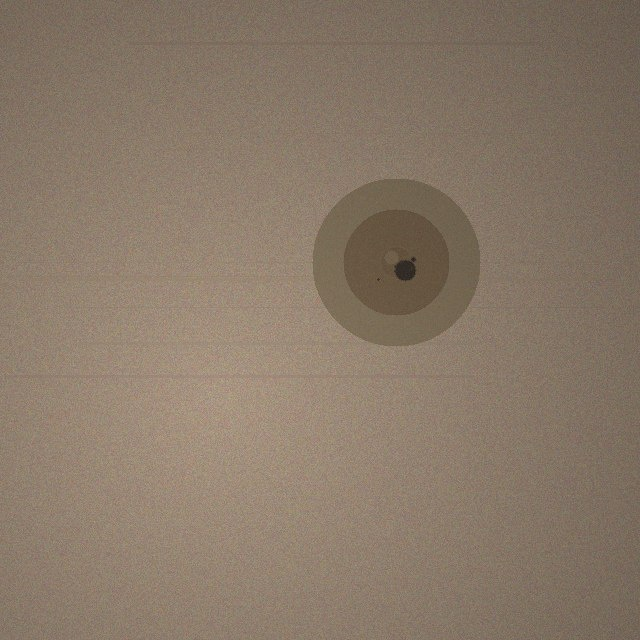shrinkage: (312, 178, 480, 346)
